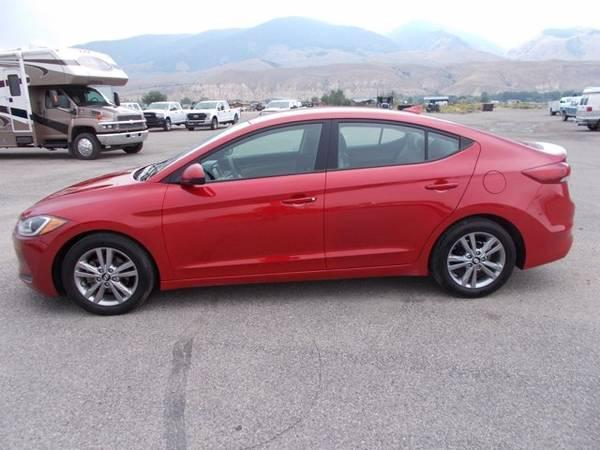Front_Bumper: (16, 237, 61, 299)
Front_Fender: (21, 184, 176, 289)
Front_Left_Door: (161, 172, 326, 289)
Front_Left_Window: (167, 119, 330, 186)
Left_Headlight: (12, 213, 68, 242)
Left_Taillight: (522, 159, 572, 185)
Rear_Bumper: (517, 182, 579, 268)
Rear_Fender: (449, 155, 561, 223)
Rear_Left_Door: (323, 156, 481, 281)
Rear_Left_Window: (327, 122, 478, 175)
Roof: (148, 107, 560, 183)
Wheel: (60, 230, 157, 314), (435, 217, 515, 294)
